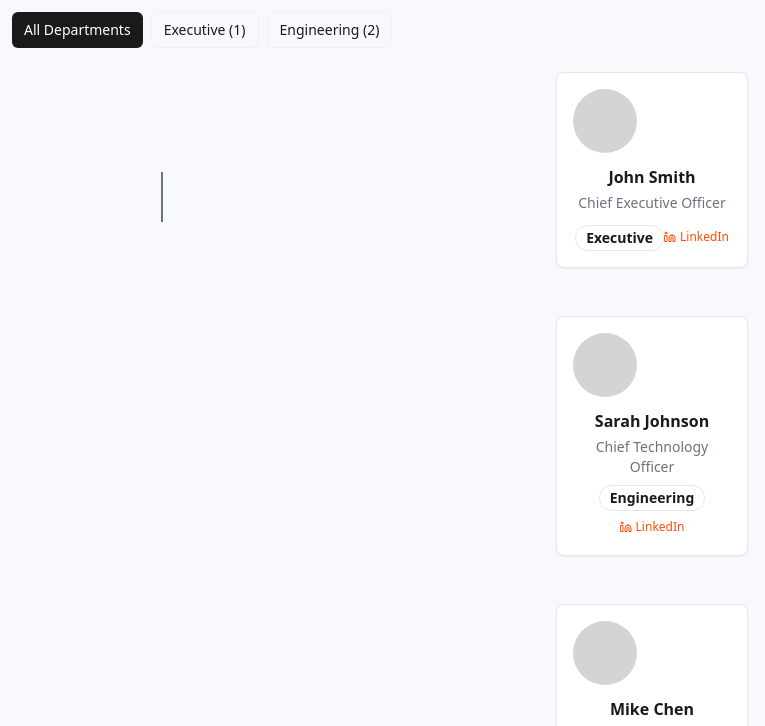
Test case: InteractiveOrgChart › filters by department when selected
Click the button "Engineering (2)". click: x=329, y=30
box: [266,12,392,48]
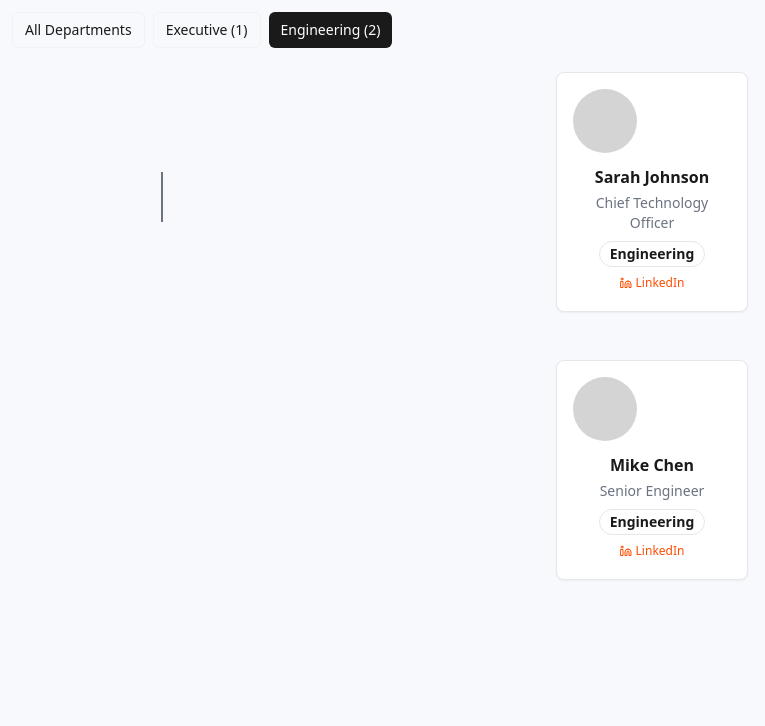
Expected: the heading "Sarah Johnson" is shown, [595,166,709,188]
Expected: the button "John Smith" is gone
